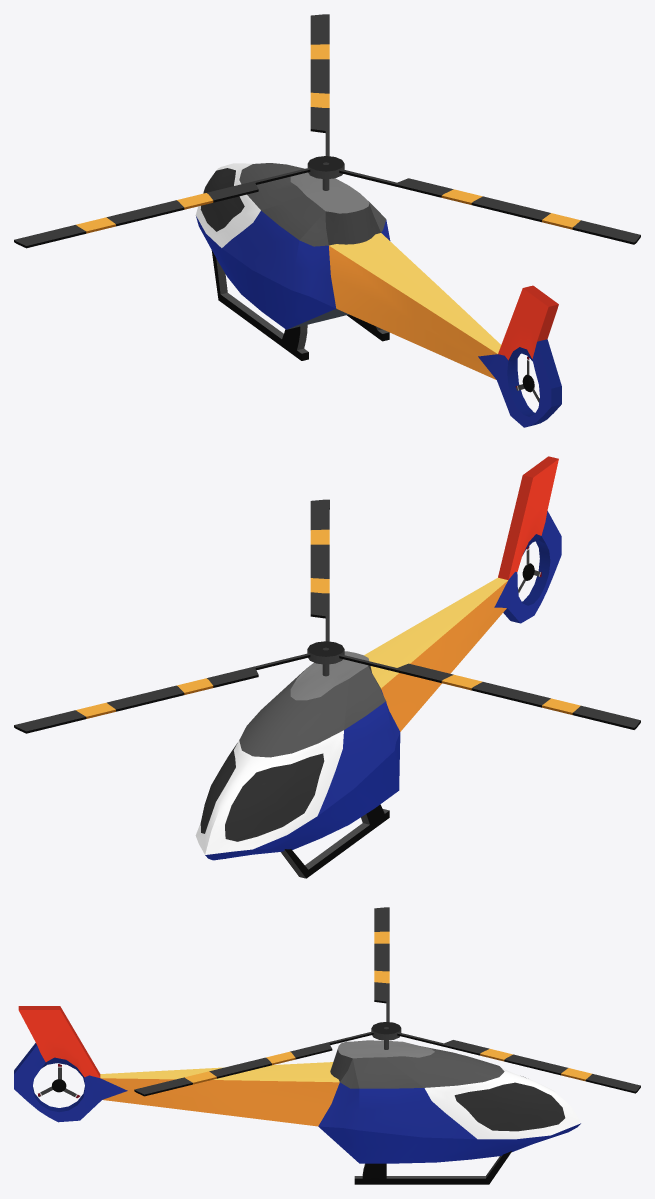
Rendered from heli.glb.
The picture shows the model from 3 angles, top to bottom: view 1: azimuth 30°, elevation 25°; view 2: azimuth 150°, elevation 25°; view 3: azimuth 270°, elevation 25°; orthographic projection. The views are drawn at different scales.
Parts seen in each view (by area): view 1: Body, Rotor; view 2: Body, Rotor; view 3: Body, Rotor.
Part boxes in pixels (x1,y1,x2,y2): Body: [195, 163, 561, 427]; Rotor: [14, 14, 640, 248]; Body: [195, 456, 561, 878]; Rotor: [14, 499, 640, 733]; Body: [14, 1006, 581, 1184]; Rotor: [134, 907, 640, 1096].
Bounding box in the file's own units: 8.23 × 3.26 × 11.64.
Materials: 1 (1 with a texture image).
